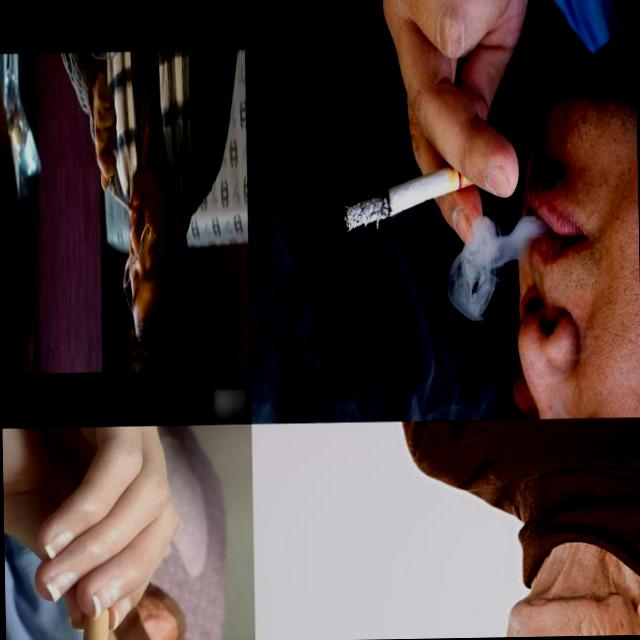smoke: (344, 144, 498, 232), (111, 184, 135, 220)
